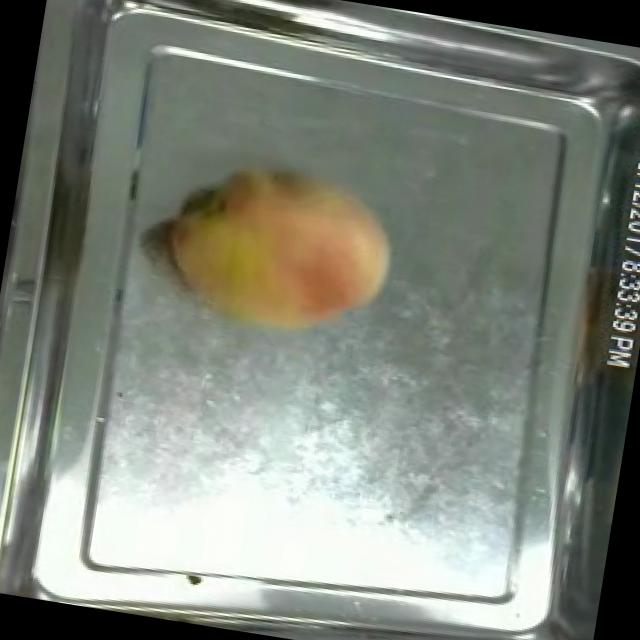Fruit: (154, 144, 412, 358)
